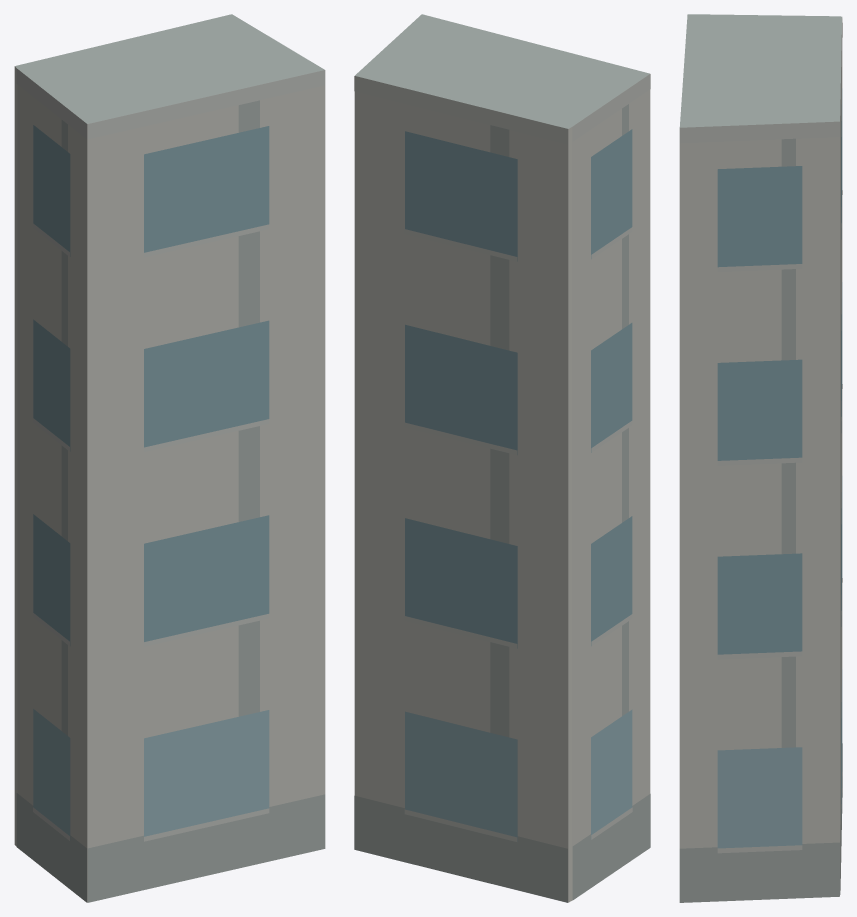
The model's file is survey-upis-32968290.glb.
The picture shows the model from 3 angles, left to right: view 1: azimuth 30°, elevation 25°; view 2: azimuth 150°, elevation 25°; view 3: azimuth 270°, elevation 25°; orthographic projection.
Visible parts, largest first — view 1: survey-upis-32968290.tmp; view 2: survey-upis-32968290.tmp; view 3: survey-upis-32968290.tmp.
Part boxes in pixels (x1,y1,x2,y2): survey-upis-32968290.tmp: [14, 14, 325, 902]; survey-upis-32968290.tmp: [354, 14, 650, 902]; survey-upis-32968290.tmp: [679, 14, 842, 902].
Bounding box in the file's own units: 3.85 × 12.2 × 2.33.
